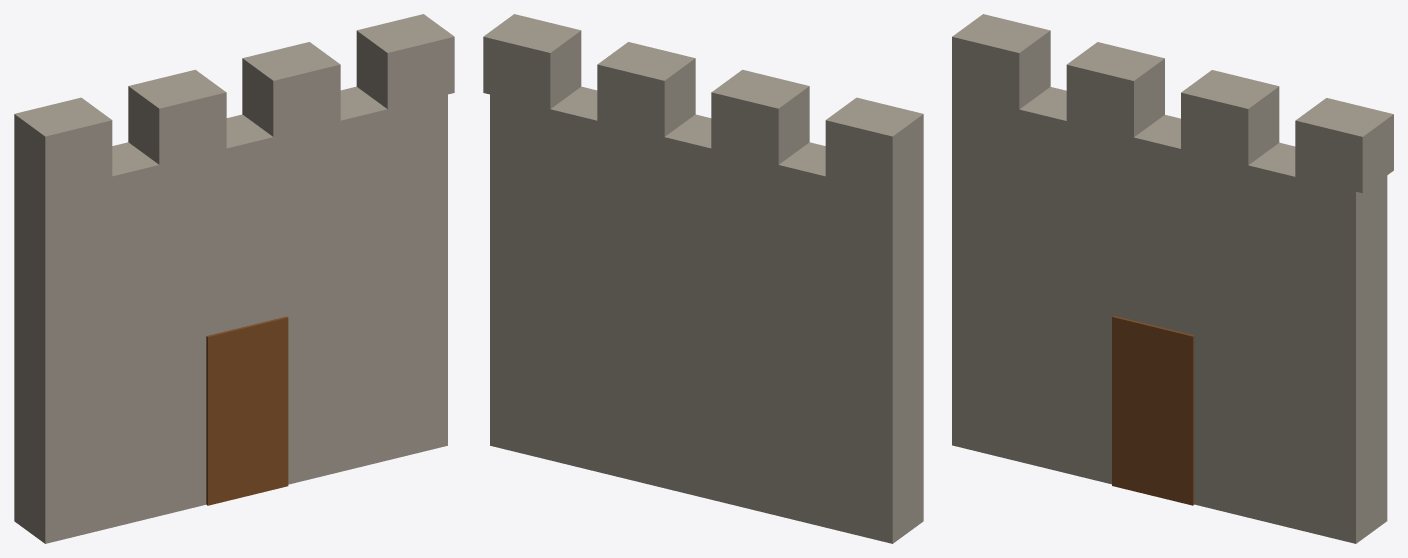
The model's file is fake_castle_wall.fbx.
The picture shows the model from 3 angles, left to right: view 1: azimuth 30°, elevation 25°; view 2: azimuth 150°, elevation 25°; view 3: azimuth 330°, elevation 25°; orthographic projection.
Visible parts, largest first — view 1: fake_castle_wall; view 2: fake_castle_wall; view 3: fake_castle_wall.
Part boxes in pixels (x1=…): fake_castle_wall: x1=14, y1=14, x2=454, y2=543; fake_castle_wall: x1=483, y1=14, x2=923, y2=543; fake_castle_wall: x1=952, y1=14, x2=1393, y2=543.
Bounding box in the file's own units: 3.05 × 2.9 × 0.42.
